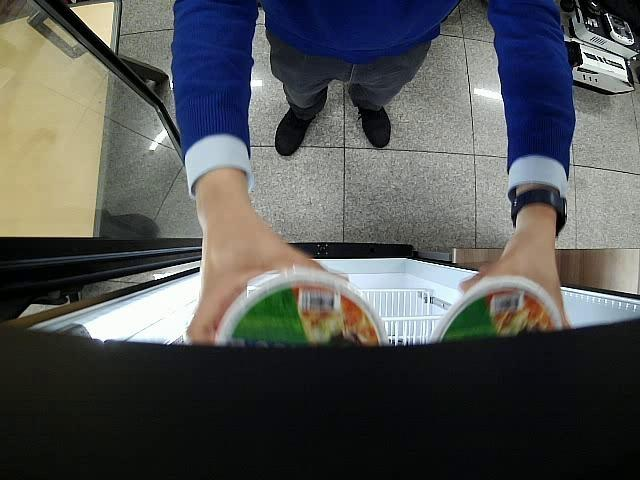09_yukGaeJang: (214, 268, 390, 346), (429, 276, 563, 344)
